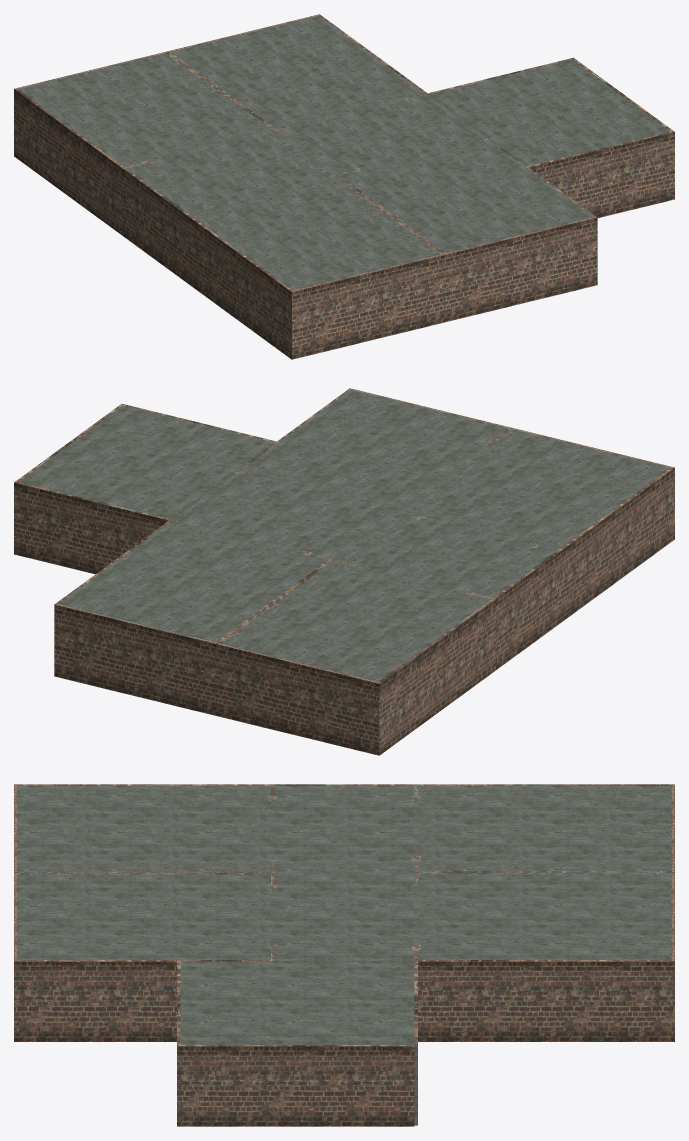
The model's file is EV_Room01.obj.
3 views of the same model, one above another, from view 1: azimuth 30°, elevation 25°; view 2: azimuth 150°, elevation 25°; view 3: azimuth 270°, elevation 25° (orthographic). The views are drawn at different scales.
Visible parts, largest first — view 1: Map01 EV_Ceil03, Map01 EV_Wall01 FixRoom04, Map01 EV_Ceil04, Map01 FixRoom05 EV_Wall13, EV_Wall01 FixRoom02 Map01, Map01 EV_Wall04, Map01 EV_Wall01, Map01 EV_Wall01 FixRoom03; view 2: Map01 EV_Ceil03, EV_Wall01 FixRoom02 Map01, Map01 EV_Ceil04, Map01 EV_Wall01 FixRoom03, Map01 EV_Wall01 FixRoom04, Map01 EV_Wall03, Map01 EV_Wall01, Map01 FixRoom05 EV_Wall13; view 3: Map01 EV_Ceil03, Map01 EV_Wall01 FixRoom03, Map01 EV_Ceil04, Map01 EV_Wall02, Map01 FixRoom05 EV_Wall13, EV_Wall01 FixRoom02 Map01, Map01 EV_Wall01 FixRoom04.
Boxes of the visible parts, <box> form: Map01 EV_Ceil03: <box>18,16,593,290</box>; Map01 EV_Wall01 FixRoom04: <box>182,175,444,359</box>; Map01 EV_Ceil04: <box>427,59,670,166</box>; Map01 FixRoom05 EV_Wall13: <box>336,138,597,322</box>; EV_Wall01 FixRoom02 Map01: <box>14,51,275,236</box>; Map01 EV_Wall04: <box>528,131,674,217</box>; Map01 EV_Wall01: <box>123,168,184,278</box>; Map01 EV_Wall01 FixRoom03: <box>167,14,428,131</box>; Map01 EV_Ceil03: <box>58,390,669,681</box>; EV_Wall01 FixRoom02 Map01: <box>217,559,495,755</box>; Map01 EV_Ceil04: <box>19,405,275,519</box>; Map01 EV_Wall01 FixRoom03: <box>54,519,332,715</box>; Map01 EV_Wall01 FixRoom04: <box>409,428,674,624</box>; Map01 EV_Wall03: <box>14,481,170,574</box>; Map01 EV_Wall01: <box>493,552,558,669</box>; Map01 FixRoom05 EV_Wall13: <box>233,388,511,508</box>; Map01 EV_Ceil03: <box>17,785,671,960</box>; Map01 EV_Wall01 FixRoom03: <box>411,873,674,1041</box>; Map01 EV_Ceil04: <box>180,960,414,1044</box>; Map01 EV_Wall02: <box>177,1045,414,1126</box>; Map01 FixRoom05 EV_Wall13: <box>14,873,277,1041</box>; EV_Wall01 FixRoom02 Map01: <box>411,784,674,872</box>; Map01 EV_Wall01 FixRoom04: <box>14,784,277,872</box>.
Bounding box in the file's own units: 2447 × 351 × 2608.
29 materials, 29 textured.
